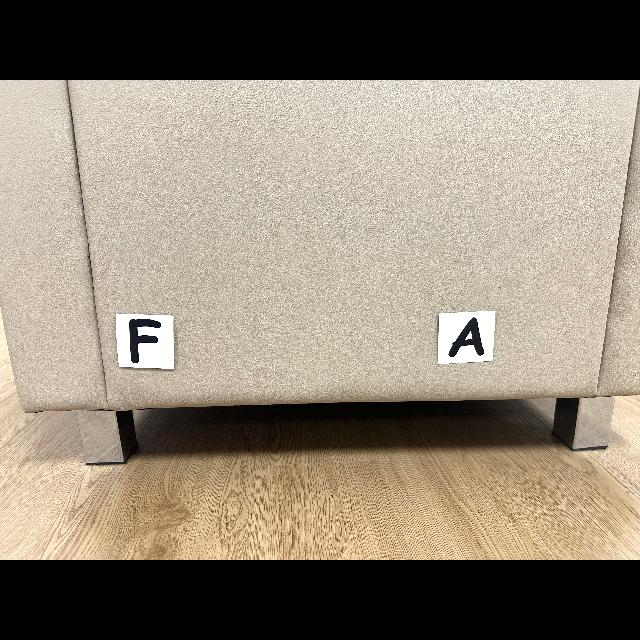A: (449, 318, 484, 358)
F: (129, 319, 161, 364)
